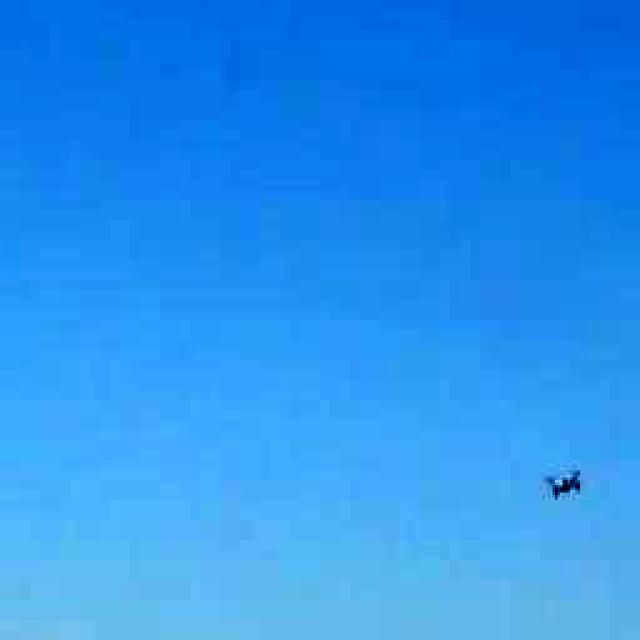bird: (520, 450, 605, 505)
